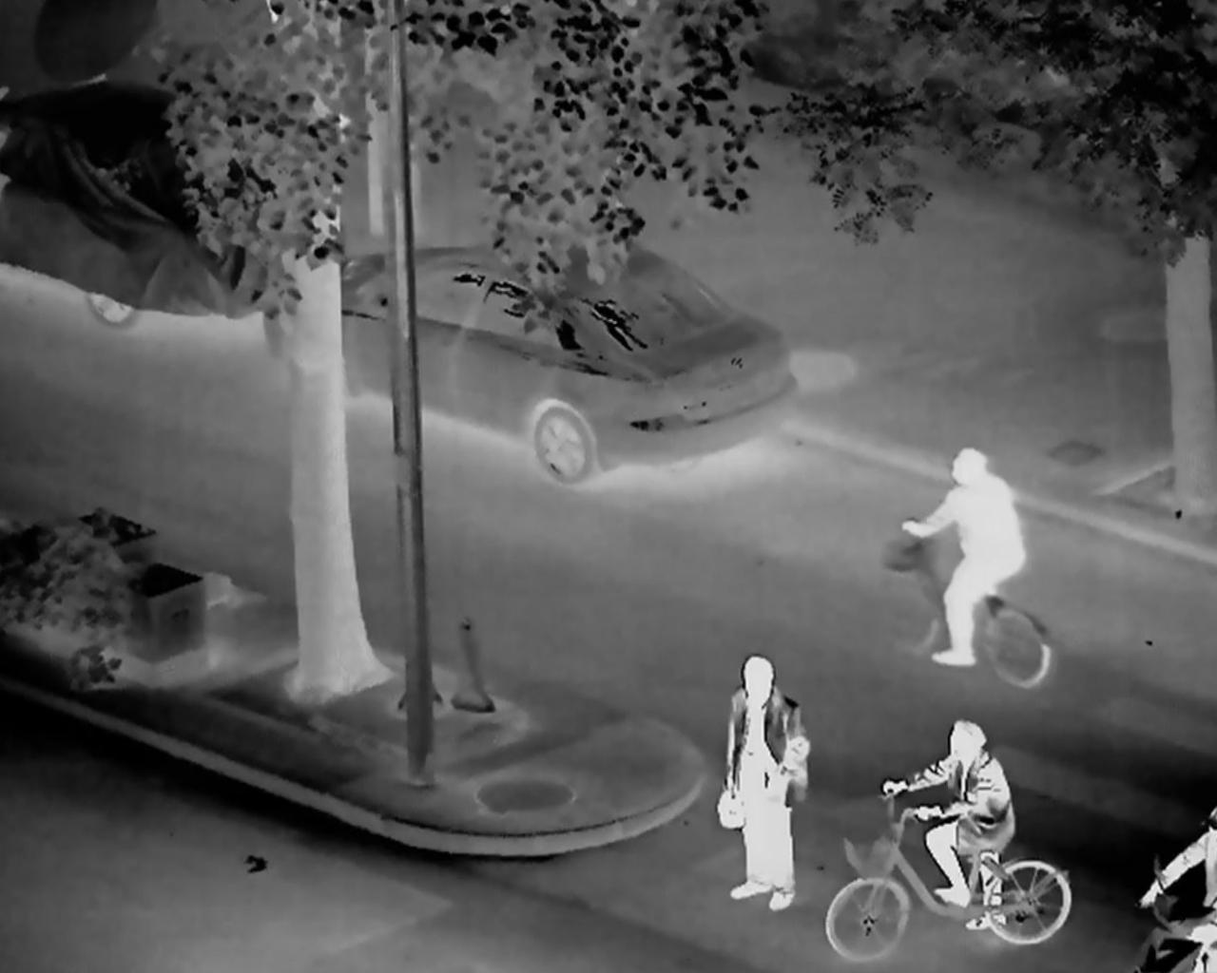person: (882, 721, 1013, 931), (906, 448, 1024, 671), (718, 655, 808, 911), (1143, 808, 1217, 951)
